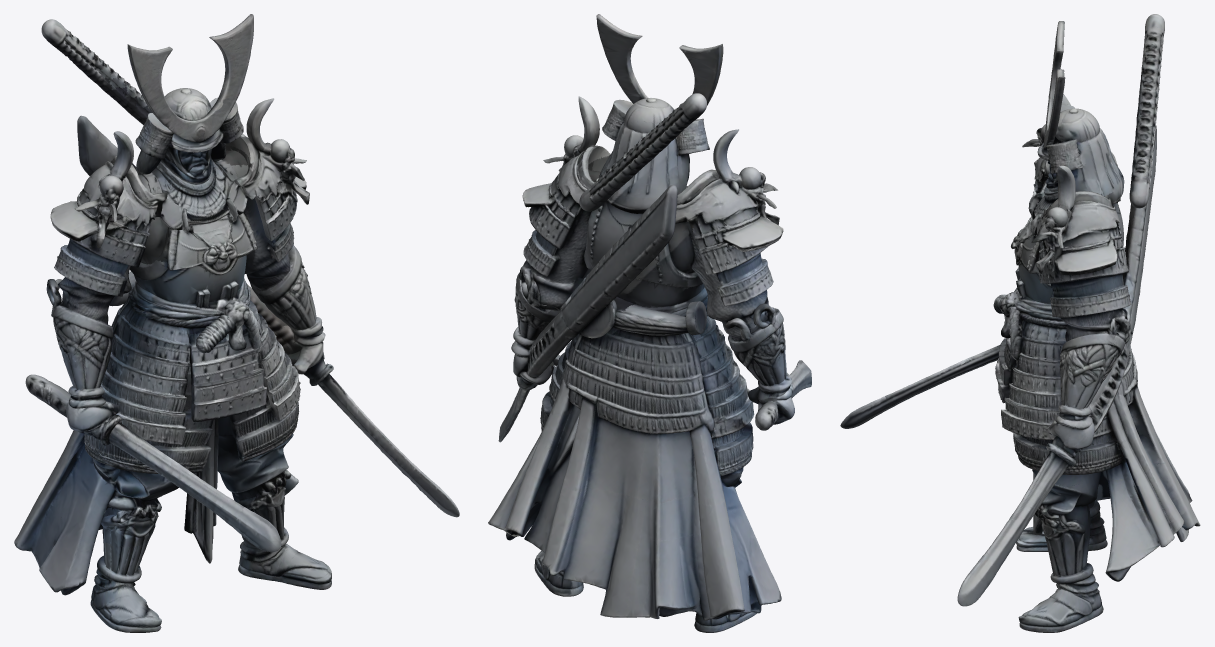
The model's file is king.glb.
The picture shows the model from 3 angles, left to right: view 1: azimuth 30°, elevation 25°; view 2: azimuth 150°, elevation 25°; view 3: azimuth 270°, elevation 25°; orthographic projection. The views are drawn at different scales.
Visible parts, largest first — view 1: tmppd8o_69mobj; view 2: tmppd8o_69mobj; view 3: tmppd8o_69mobj.
Boxes of the visible parts, <box> form: tmppd8o_69mobj: <box>14,14,459,632</box>; tmppd8o_69mobj: <box>488,14,811,632</box>; tmppd8o_69mobj: <box>840,14,1200,632</box>.
Size of the model in its own units: 0.6432 by 1 by 0.6193.
Materials: 1 (1 with a texture image).
